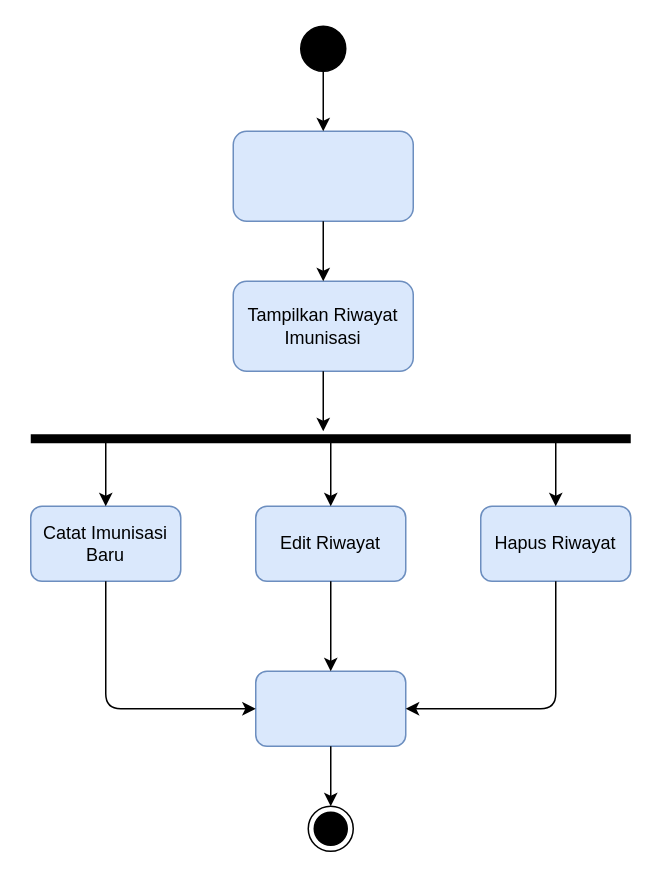
Image size: 660x878. Some labels were removed from this diagram. Here are the shapes that lost their labels. From the top down, the centre of each, then its label:
point 322,175: Pilih Menu Imunisasi
point 330,708: Simpan ke DB
